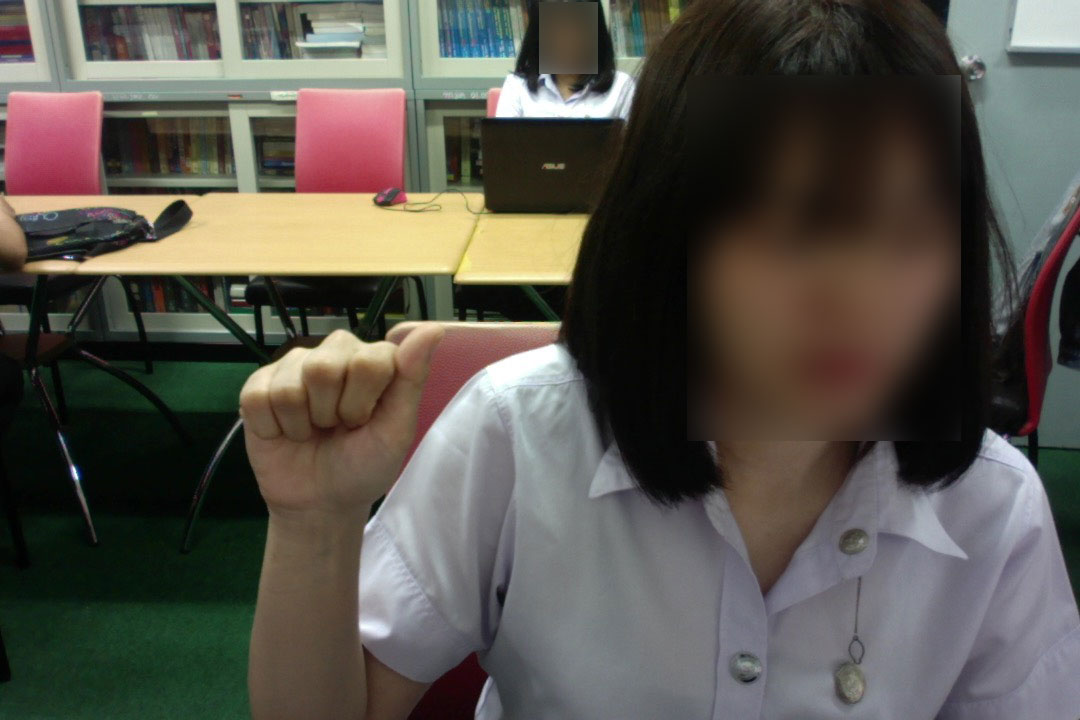or: (228, 315, 462, 521)
